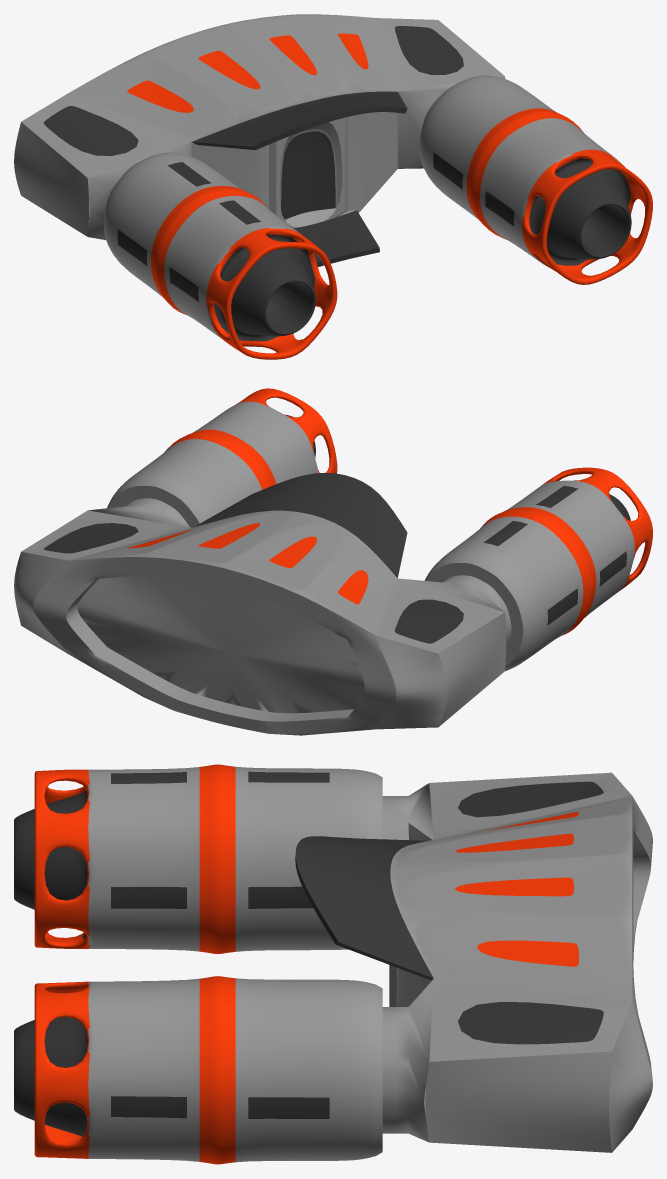
File: Modular_Engines_02.FBX
3 renders of one model, top to bottom at view 1: azimuth 30°, elevation 25°; view 2: azimuth 150°, elevation 25°; view 3: azimuth 270°, elevation 25°, orthographic. The views are drawn at different scales.
Visible parts, largest first — view 1: Engines; view 2: Engines; view 3: Engines.
Boxes of the visible parts, x1,y1,x2,y2 form: Engines: (14,14,652,359); Engines: (14,388,652,735); Engines: (14,764,652,1164).
Bounding box in the file's own units: 468 × 163 × 435.
